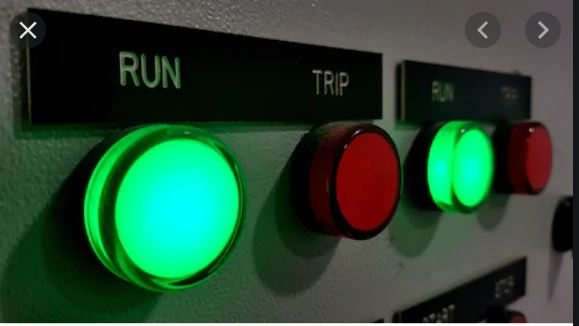Green_Led_On: (89, 120, 245, 297), (416, 112, 497, 216)
Red_Led_Off: (302, 118, 404, 249), (510, 116, 560, 201)
